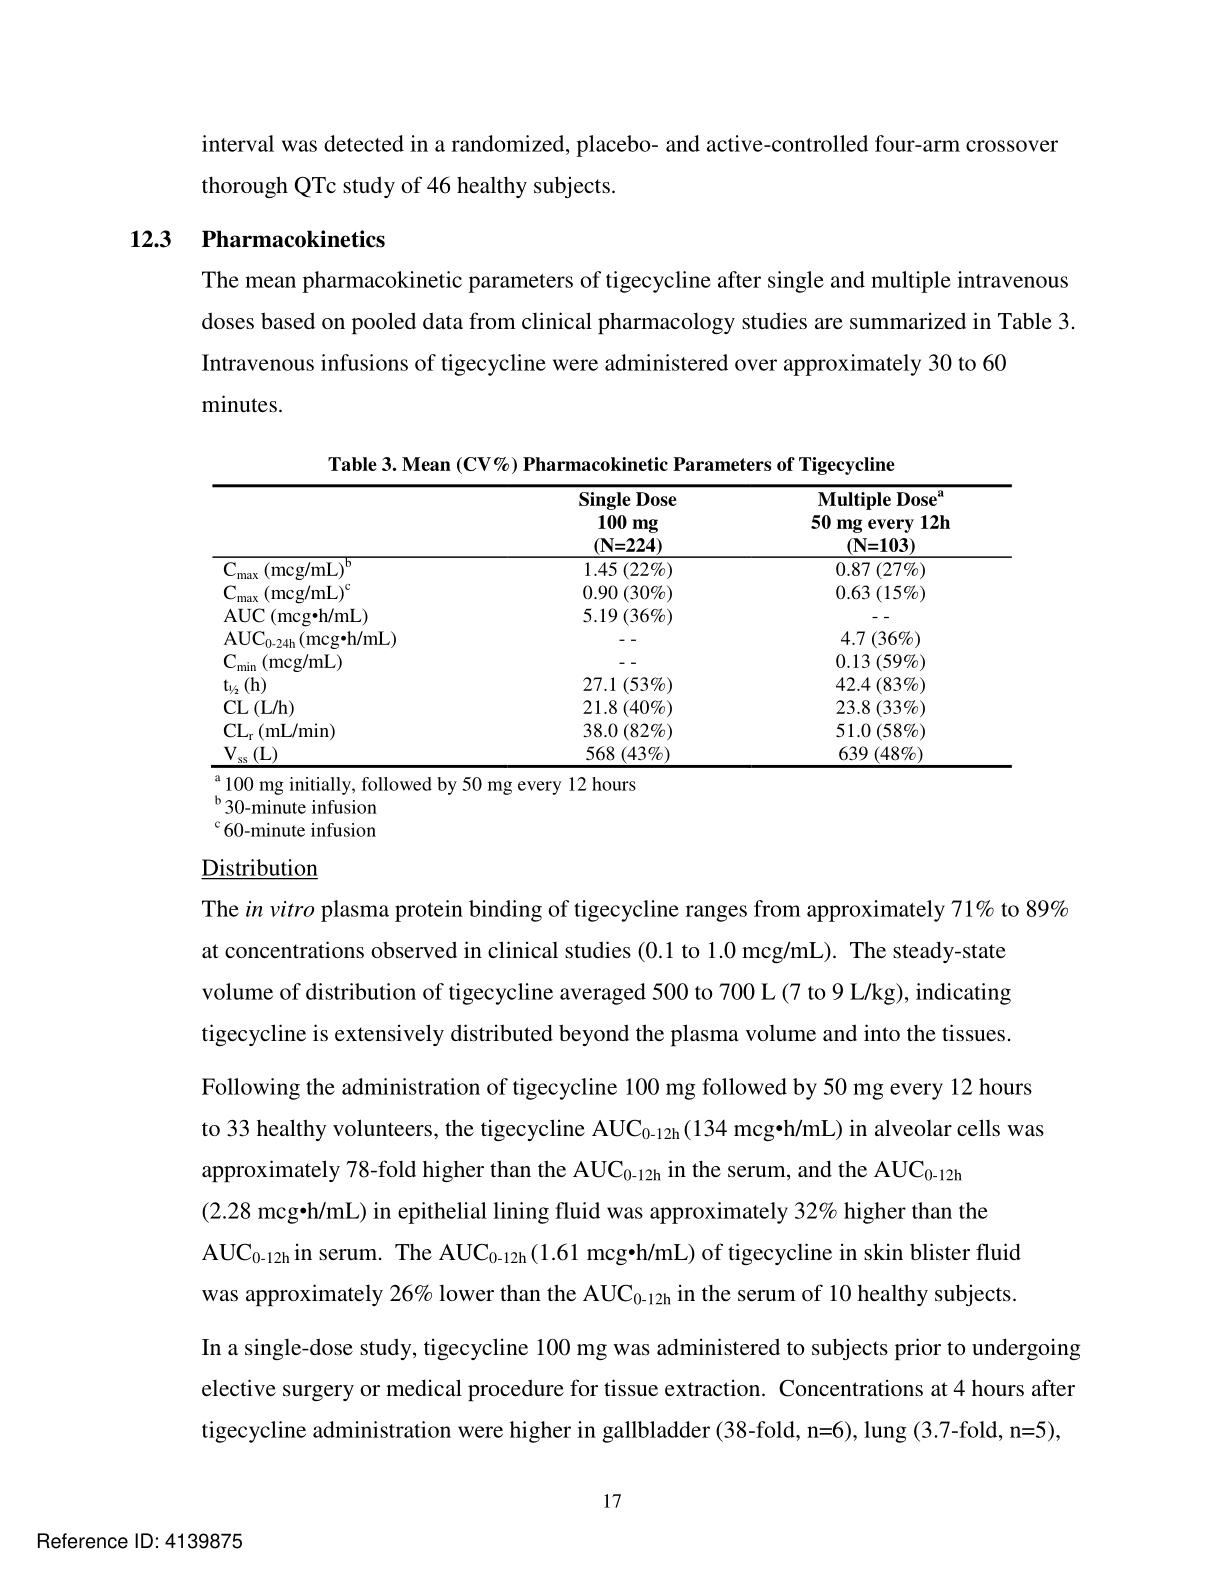partial_lined: (208, 481, 1014, 771)
